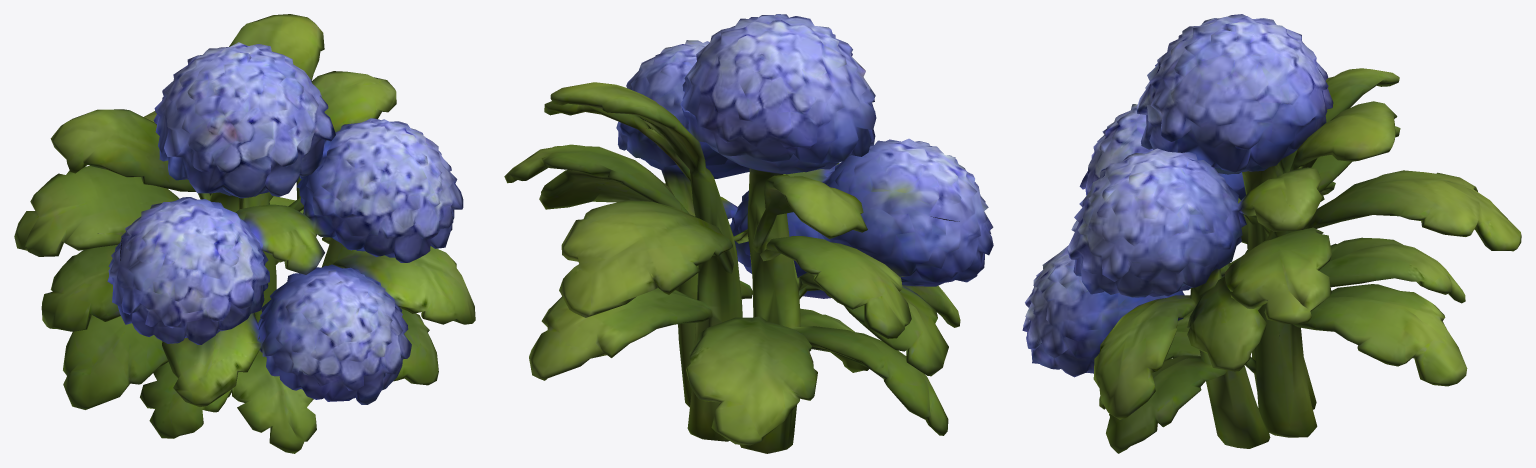
The model's file is hydrangea.glb.
The picture shows the model from 3 angles, left to right: view 1: azimuth 30°, elevation 25°; view 2: azimuth 150°, elevation 25°; view 3: azimuth 270°, elevation 25°; orthographic projection. The views are drawn at different scales.
Visible parts, largest first — view 1: hydrangea; view 2: hydrangea; view 3: hydrangea.
Part boxes in pixels (left/top/right/bottom): hydrangea: left=14, top=14, right=475, bottom=453; hydrangea: left=504, top=14, right=993, bottom=453; hydrangea: left=1022, top=14, right=1521, bottom=453.
Size of the model in its own units: 1.08 by 0.9508 by 1.1.
Materials: 1 (1 with a texture image).
